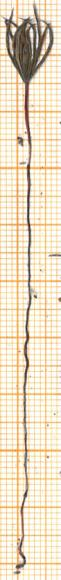flower: (0, 0, 60, 86)
root: (11, 331, 35, 572)
stem: (22, 86, 40, 333)
